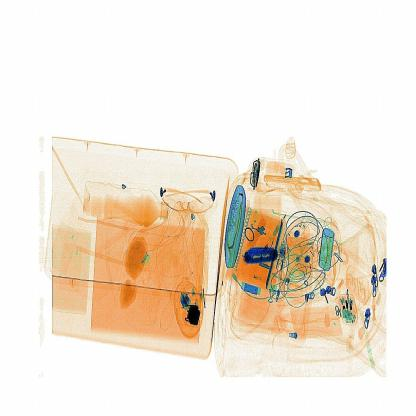scissors: (244, 235, 284, 264)
